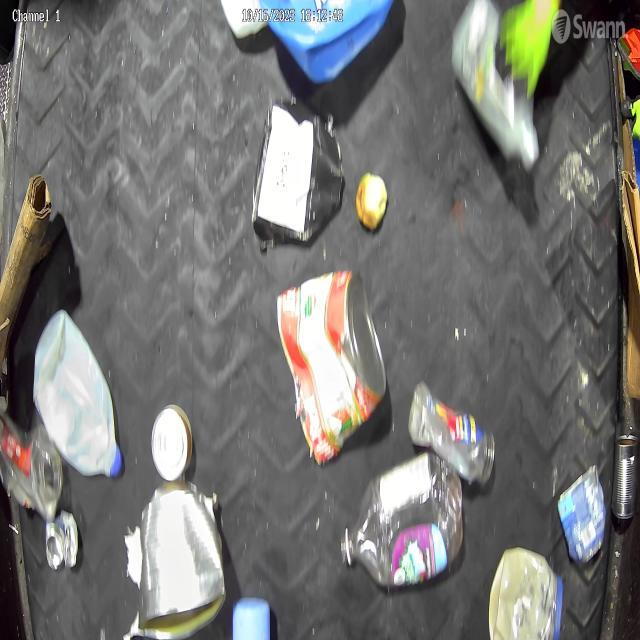can: (150, 402, 194, 482), (611, 435, 640, 518), (44, 509, 80, 571)
milk_jug: (451, 0, 540, 173), (33, 310, 123, 477)
plastic_bottle: (340, 451, 464, 586), (408, 380, 496, 486)
